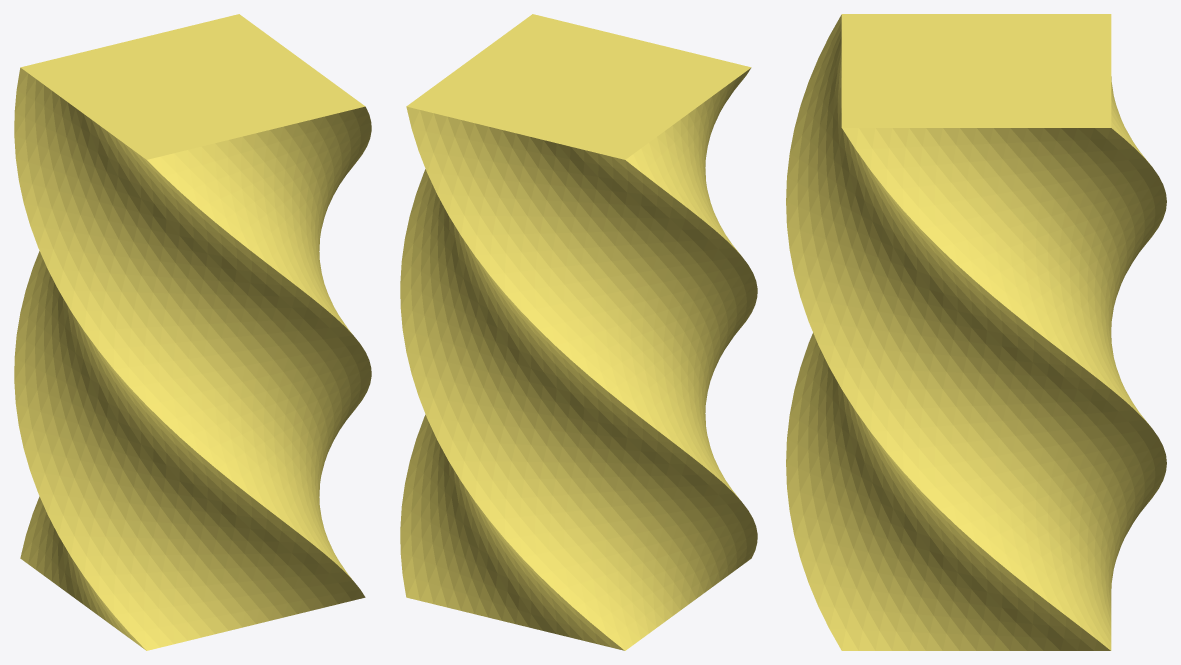
File: twisted.glb
3 renders of one model, left to right at view 1: azimuth 30°, elevation 25°; view 2: azimuth 150°, elevation 25°; view 3: azimuth 270°, elevation 25°, orthographic. The views are drawn at different scales.
Size of the model in its own units: 19.8 by 30 by 19.8.
